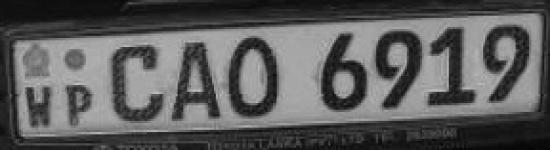1: (426, 22, 478, 112)
6: (313, 27, 370, 114), (371, 25, 426, 113)
9: (480, 19, 538, 110)
C: (165, 35, 227, 127), (106, 39, 166, 126)
O: (227, 32, 283, 121)
P: (63, 77, 97, 134)
W: (21, 82, 58, 134)
